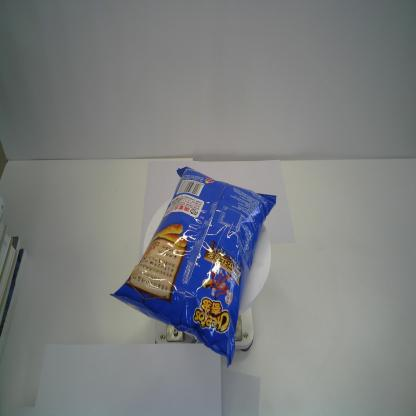Puffed Food: (108, 165, 277, 370)
